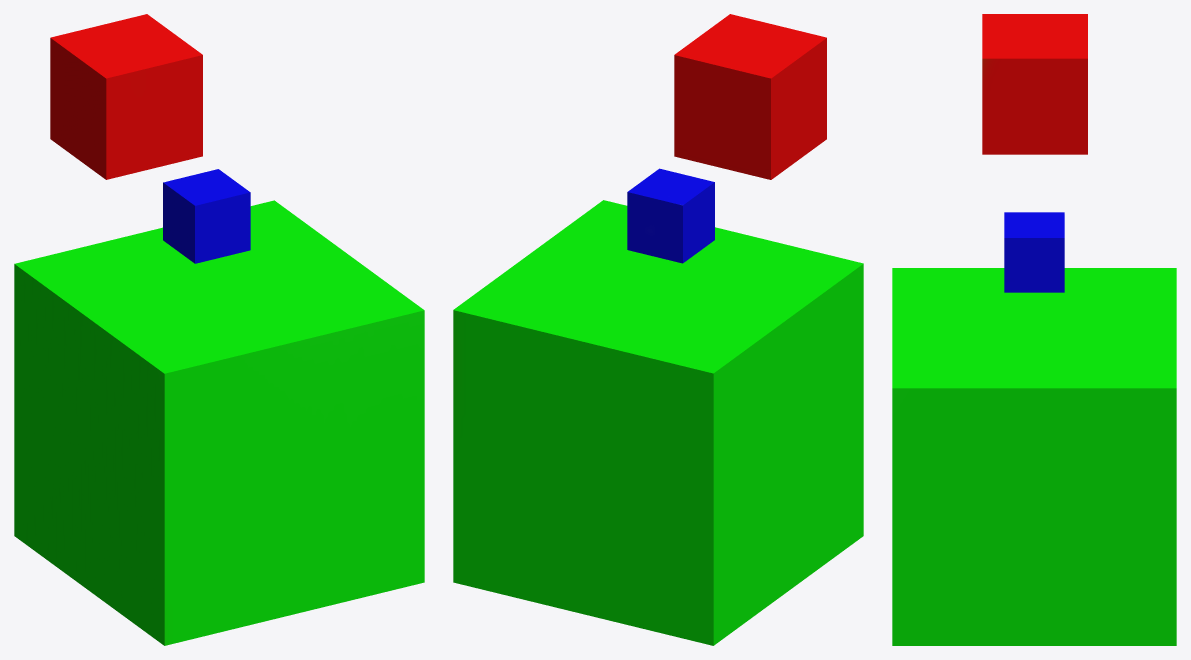
File: TestPlayerver_l_arm.obj
3 views of the same model, side by side, from view 1: azimuth 30°, elevation 25°; view 2: azimuth 150°, elevation 25°; view 3: azimuth 270°, elevation 25° (orthographic). The views are drawn at different scales.
Parts seen in each view (by area): view 1: C_L_Arm; view 2: C_L_Arm; view 3: C_L_Arm.
Part boxes in pixels (x1,y1,x2,y2): C_L_Arm: [14, 14, 424, 645]; C_L_Arm: [453, 14, 863, 645]; C_L_Arm: [892, 14, 1176, 645].
Bounding box in the file's own units: 1.18 × 2.23 × 1.13.
Materials: 1 (1 with a texture image).
